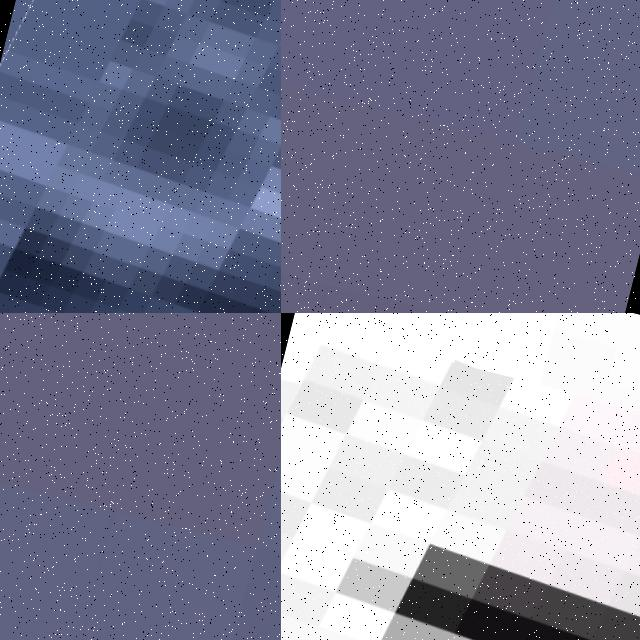0: (0, 0, 281, 313)
drone: (281, 322, 640, 640)
